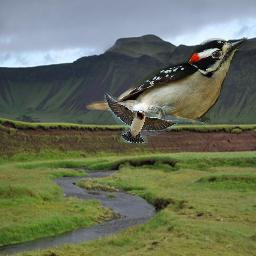Swallow: (104, 92, 179, 143)
Woodpecker: (86, 34, 248, 126)
